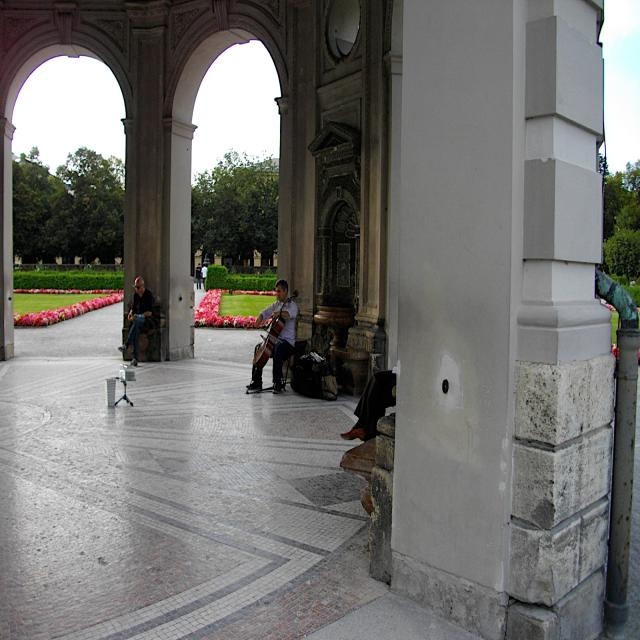cello: (253, 289, 300, 377)
